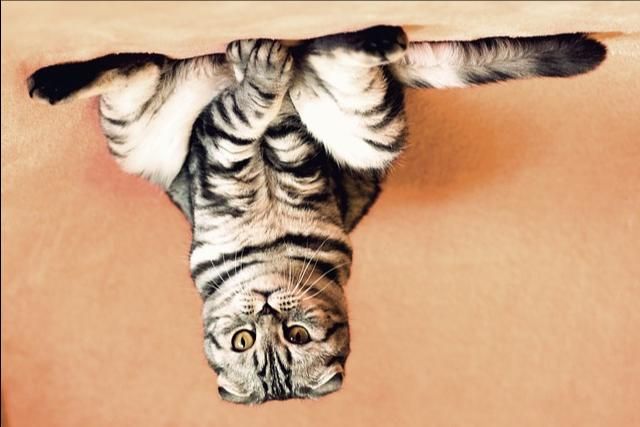Non_Gorille: (44, 0, 541, 425)
